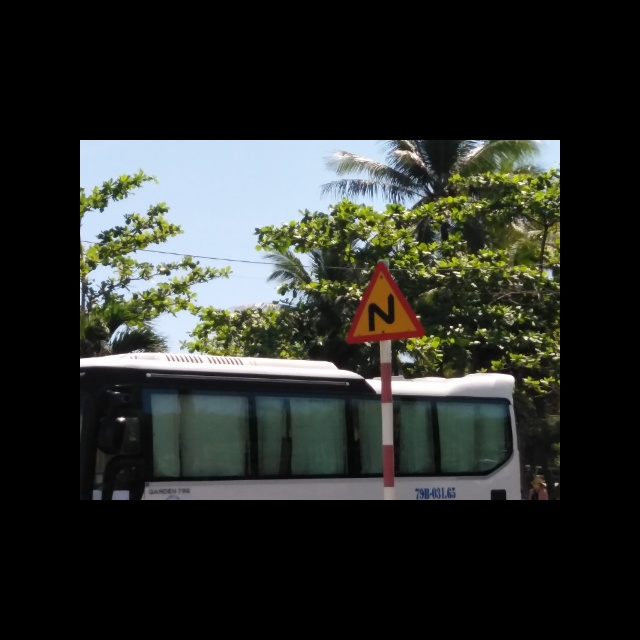Ngoặt nguy hiểm liên tiếp bên phải: (346, 259, 425, 344)
